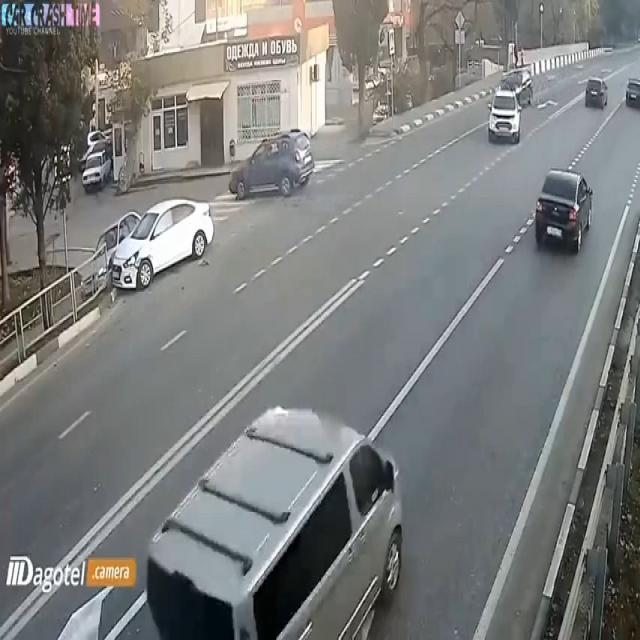Accident: (94, 199, 214, 314)
